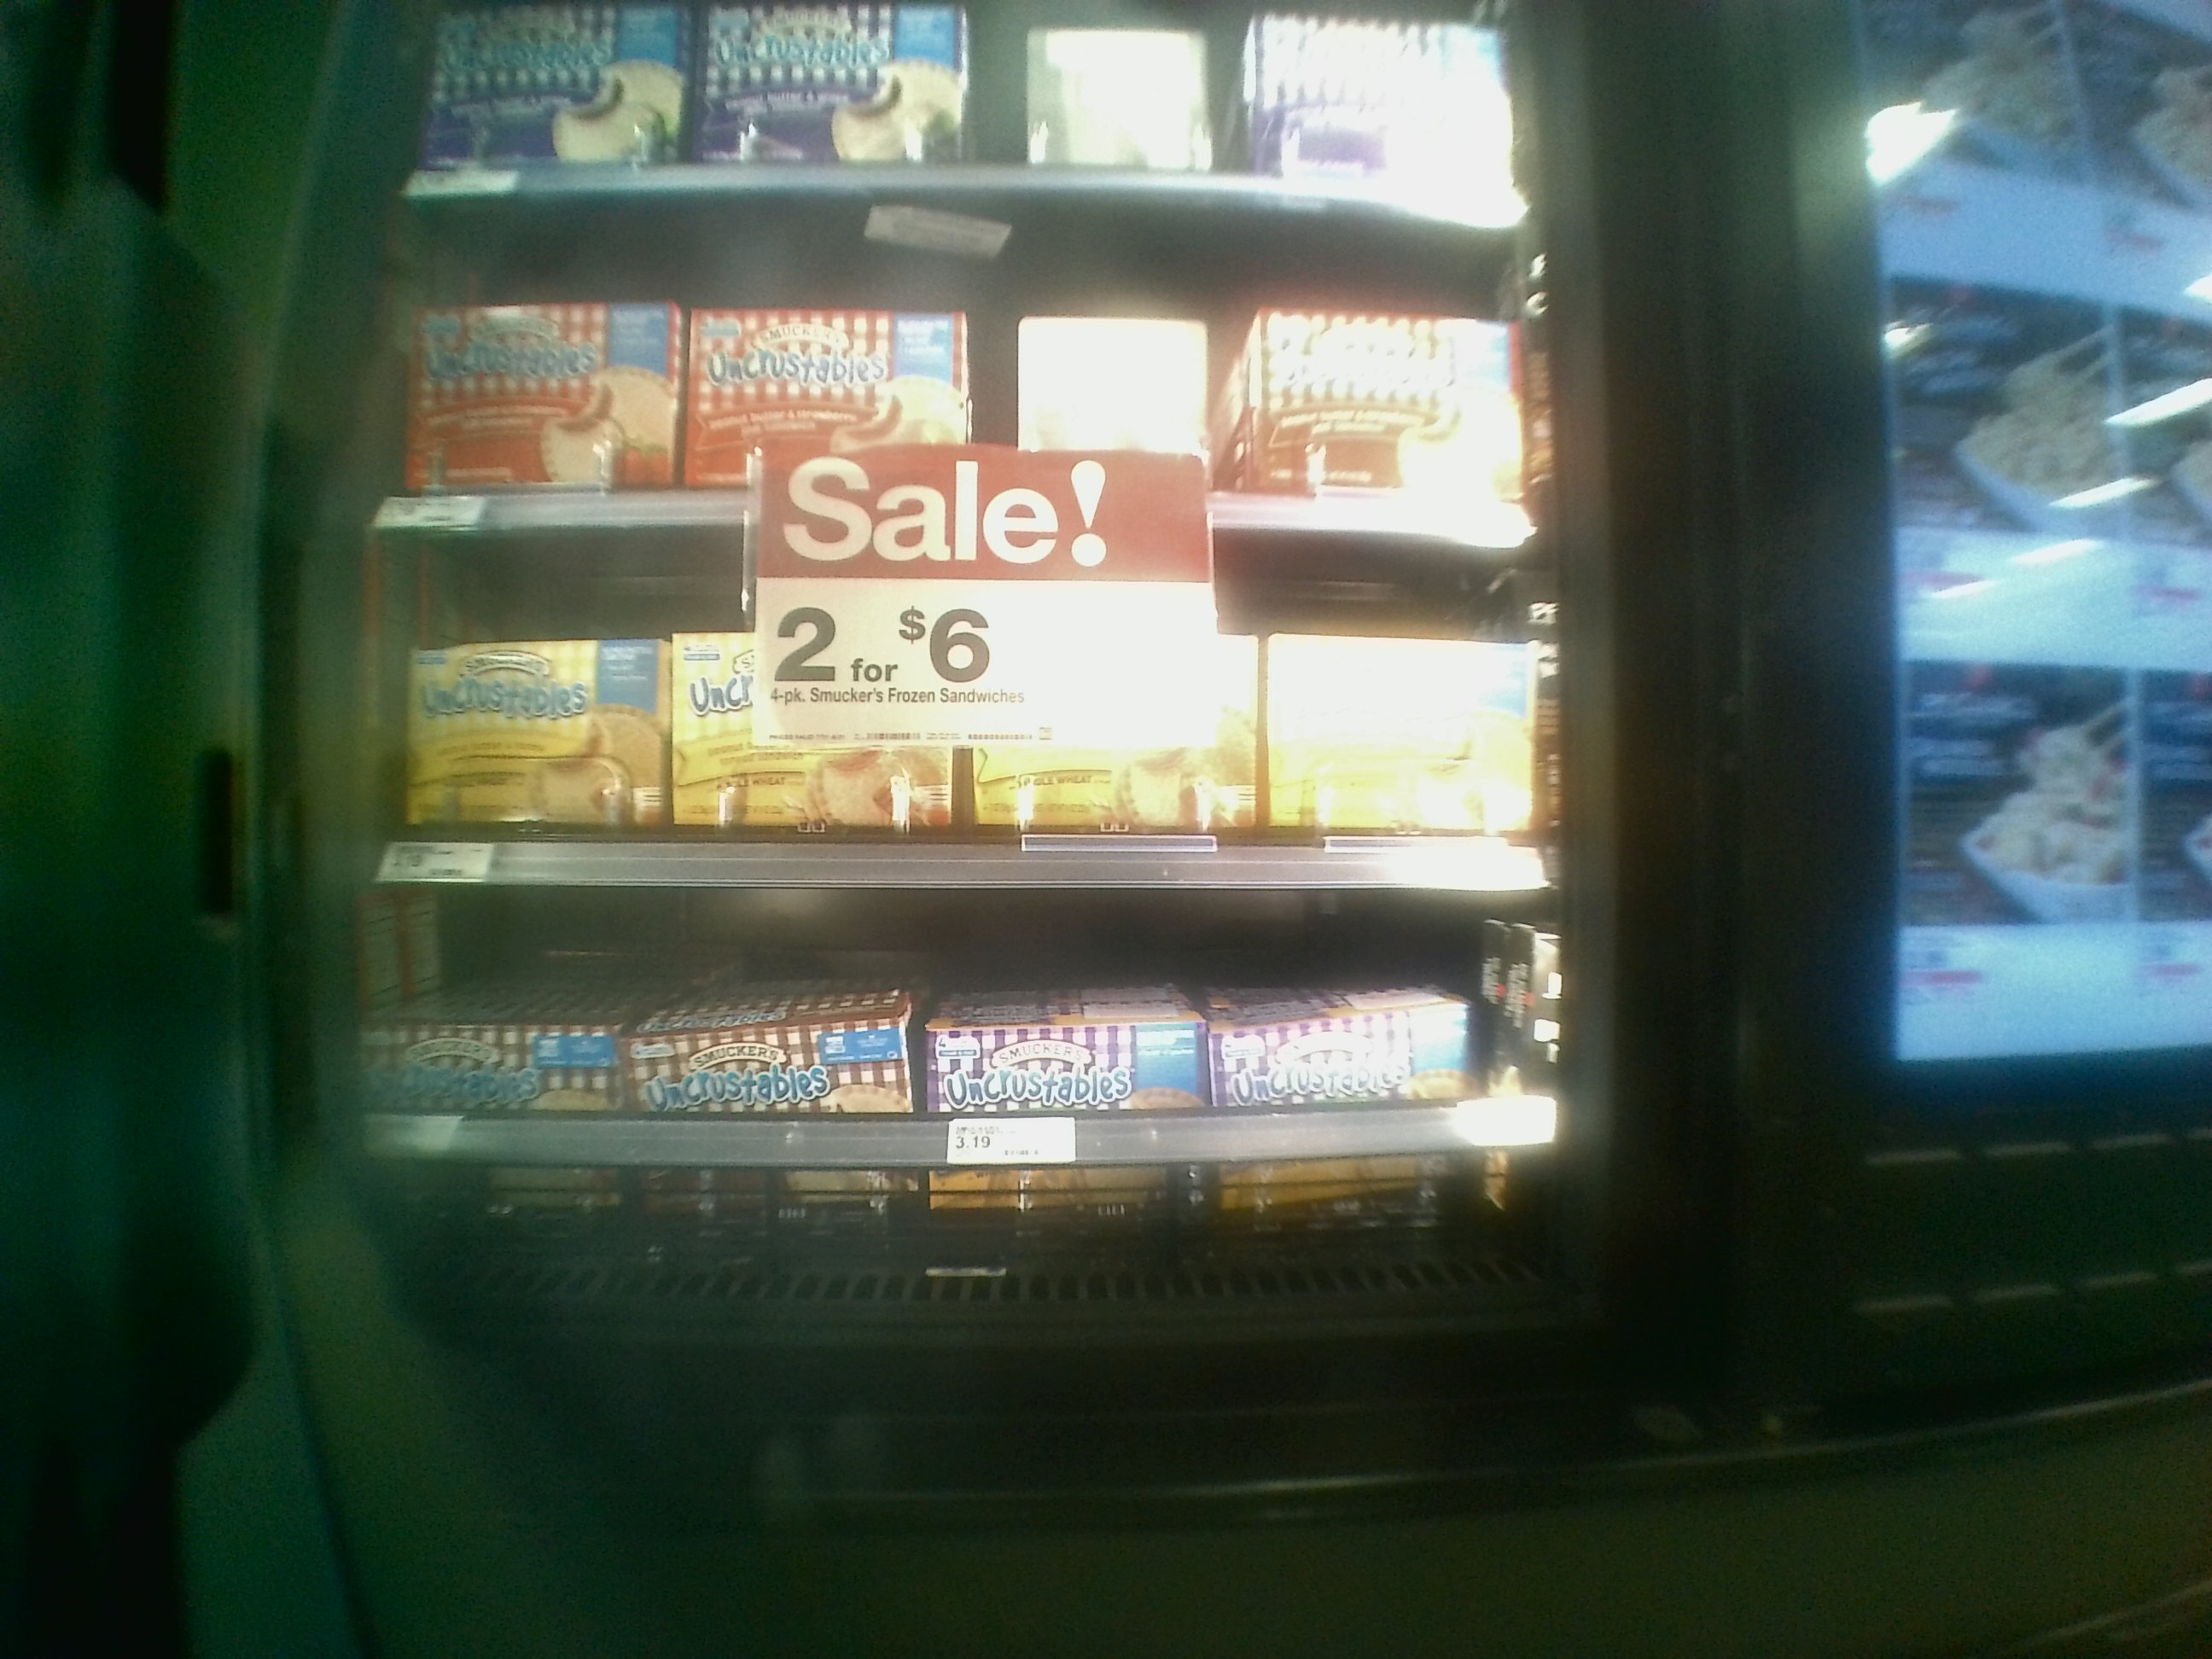shelf: (345, 850, 1566, 1281), (364, 519, 1545, 882), (383, 178, 1540, 540)
